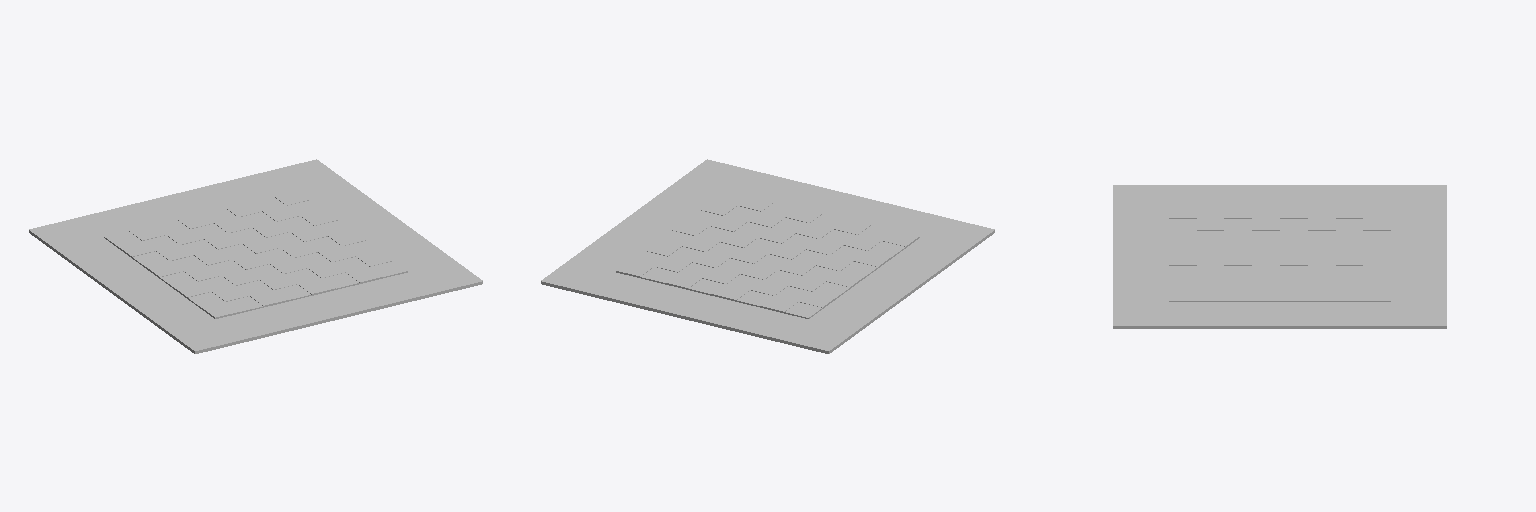
Rendered from chess-board.obj.
The picture shows the model from 3 angles: view 1: azimuth 30°, elevation 25°; view 2: azimuth 150°, elevation 25°; view 3: azimuth 270°, elevation 25°; orthographic projection.
Visible parts, largest first — view 1: ChessBoard; view 2: ChessBoard; view 3: ChessBoard.
Part boxes in pixels (left/top/right/bottom): ChessBoard: left=29, top=159, right=482, bottom=353; ChessBoard: left=541, top=159, right=994, bottom=353; ChessBoard: left=1113, top=185, right=1446, bottom=328.
Bounding box in the file's own units: 60.52 × 0.9653 × 60.52.